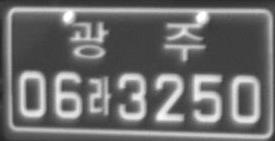0: (229, 74, 262, 125), (17, 68, 47, 118)
2: (154, 72, 186, 123)
3: (116, 72, 148, 121)
5: (191, 73, 224, 123)
6: (53, 70, 84, 119)
광주_D: (69, 21, 206, 62)
라: (87, 74, 112, 115)
